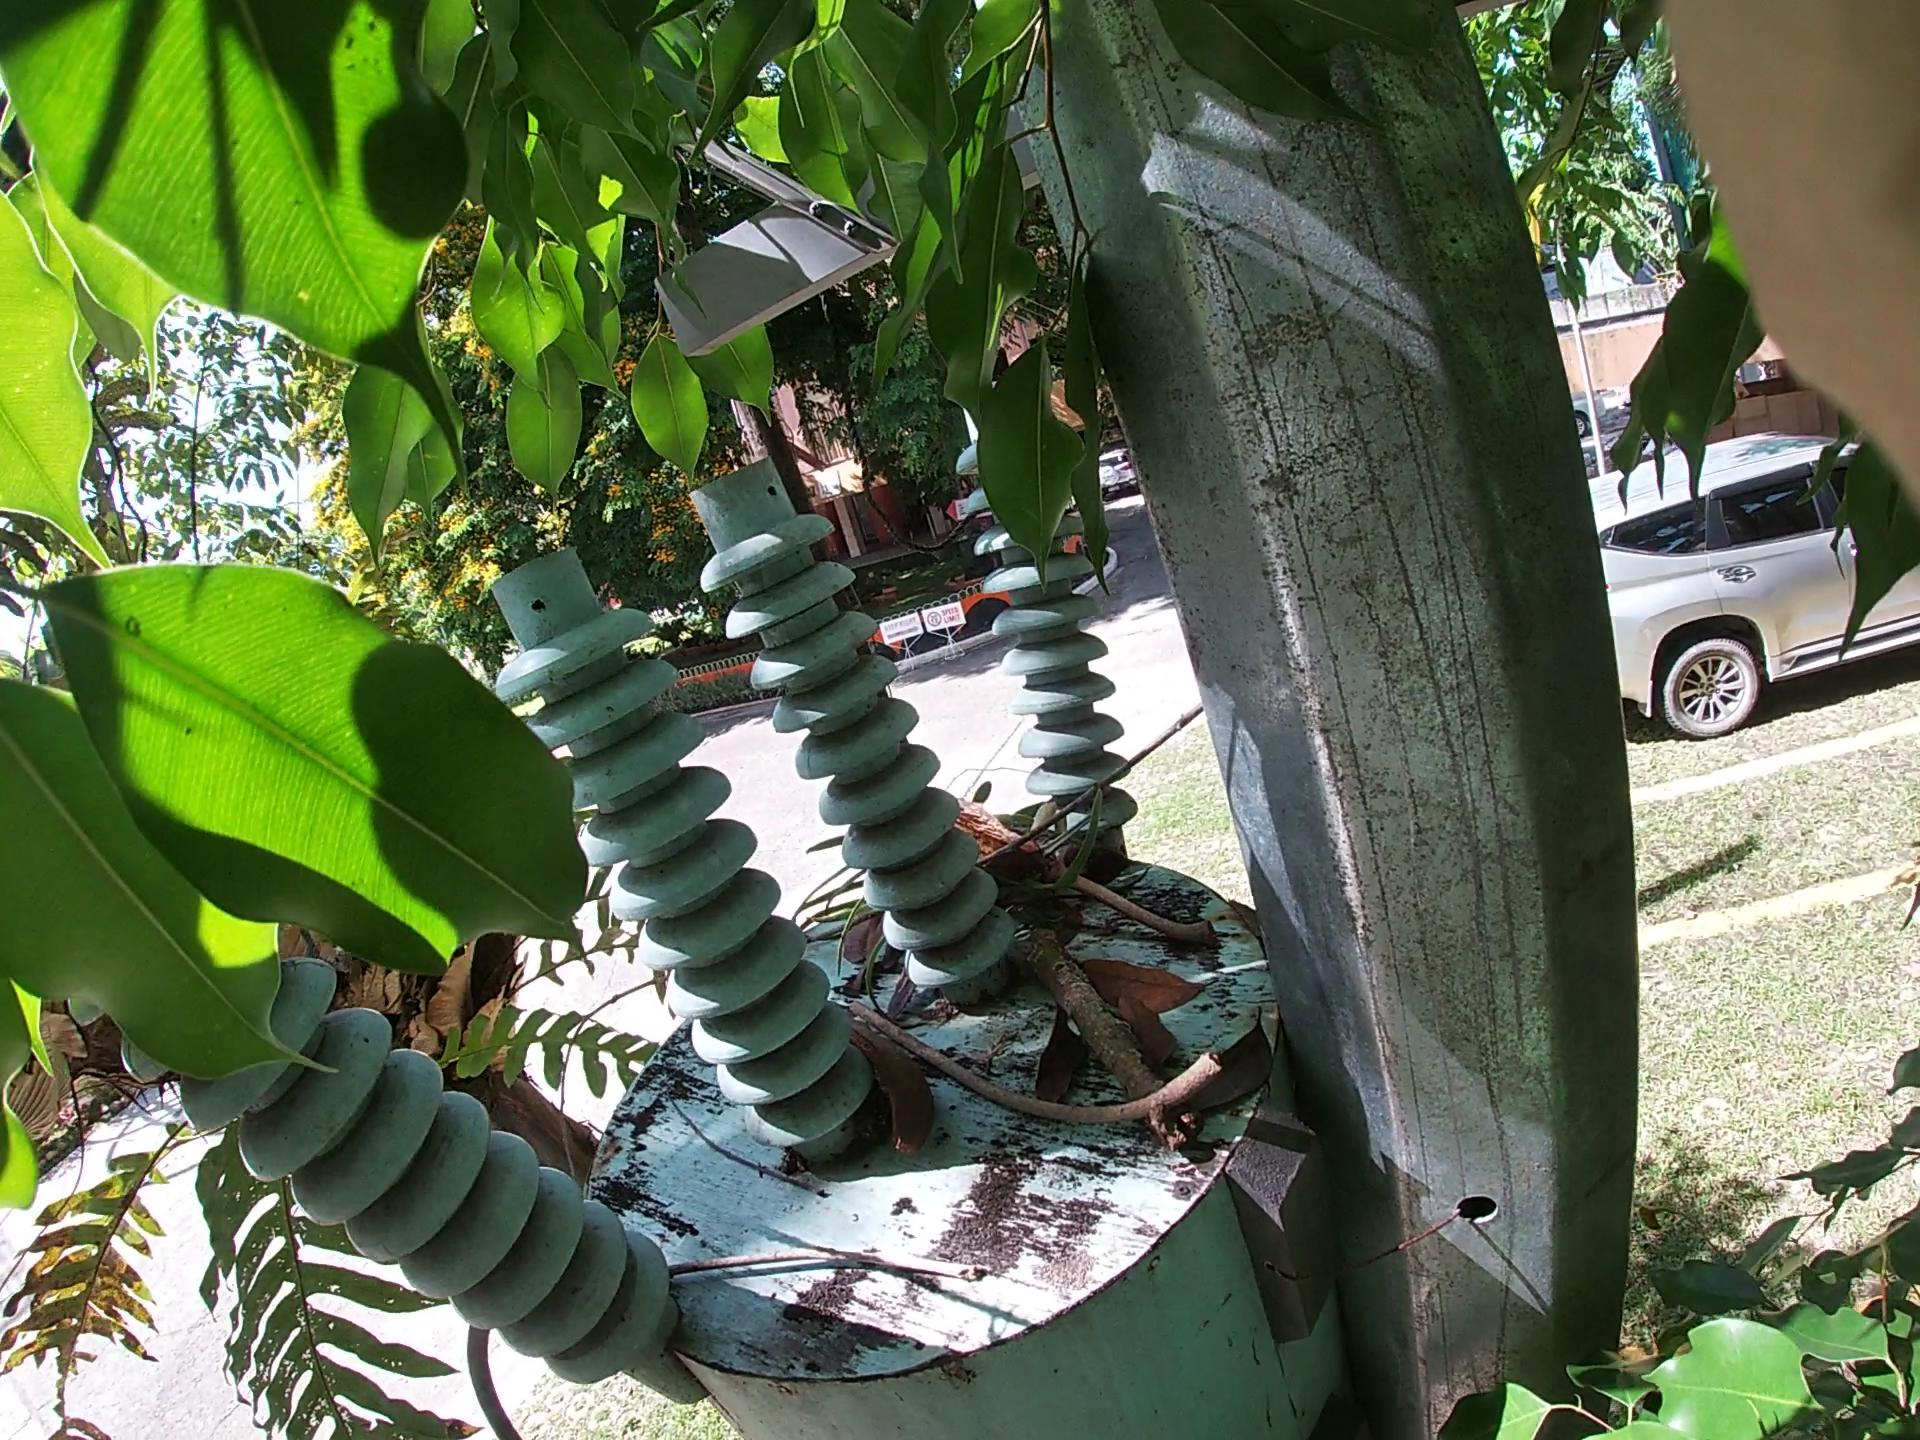leaf: (1057, 915, 1197, 1144)
tree branch: (945, 862, 1268, 1172), (838, 977, 1271, 1151), (862, 702, 1147, 945), (475, 1193, 1049, 1272), (962, 830, 1175, 951)
